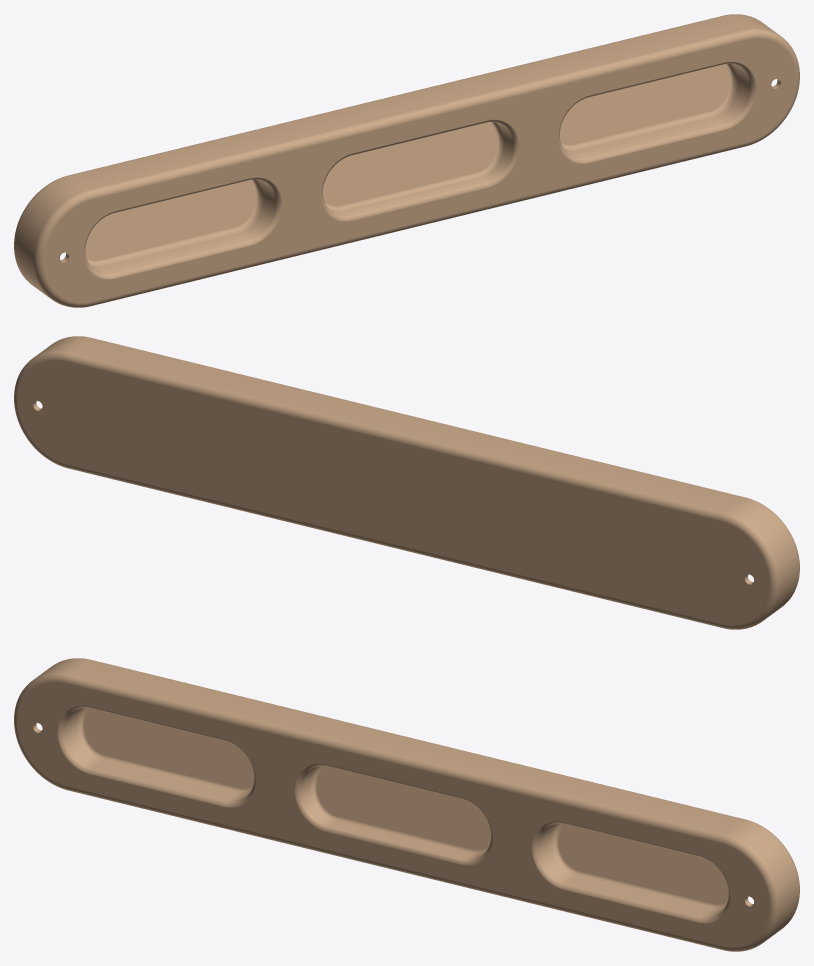
The model's file is crimptonite-helium-mobile.glb.
The picture shows the model from 3 angles, top to bottom: view 1: azimuth 30°, elevation 25°; view 2: azimuth 150°, elevation 25°; view 3: azimuth 330°, elevation 25°; orthographic projection.
Parts seen in each view (by area): view 1: helium--body, he-outer-top-jug, he-rear-jug-sloper, he-L-lower-14, he-R-lower-14, he-C-lower-10, he-C-upper-18, he-L-upper-22, he-R-upper-22; view 2: he-rear-jug-sloper, he-outer-top-jug, helium--body; view 3: helium--body, he-outer-top-jug, he-rear-jug-sloper, he-R-lower-14, he-L-lower-14, he-C-lower-10, he-C-upper-18, he-R-upper-22, he-L-upper-22.
Boxes of the visible parts, x1=… form: helium--body: x1=24, y1=28, x2=799, y2=307; he-outer-top-jug: x1=46, y1=21, x2=778, y2=212; he-rear-jug-sloper: x1=14, y1=14, x2=769, y2=290; he-L-lower-14: x1=83, y1=191, x2=282, y2=279; he-R-lower-14: x1=558, y1=76, x2=756, y2=163; he-C-lower-10: x1=320, y1=137, x2=519, y2=221; he-C-upper-18: x1=320, y1=119, x2=519, y2=194; he-L-upper-22: x1=83, y1=177, x2=282, y2=252; he-R-upper-22: x1=558, y1=61, x2=756, y2=136; he-rear-jug-sloper: x1=14, y1=343, x2=789, y2=629; he-outer-top-jug: x1=47, y1=336, x2=778, y2=524; helium--body: x1=44, y1=343, x2=799, y2=612; helium--body: x1=14, y1=672, x2=789, y2=951; he-outer-top-jug: x1=35, y1=665, x2=767, y2=856; he-rear-jug-sloper: x1=44, y1=658, x2=799, y2=934; he-R-lower-14: x1=531, y1=835, x2=730, y2=923; he-L-lower-14: x1=57, y1=720, x2=255, y2=807; he-C-lower-10: x1=294, y1=781, x2=493, y2=865; he-C-upper-18: x1=294, y1=763, x2=493, y2=838; he-R-upper-22: x1=531, y1=821, x2=730, y2=896; he-L-upper-22: x1=57, y1=705, x2=255, y2=780.
Bounding box in the file's own units: 0.4 × 0.058 × 0.024.
